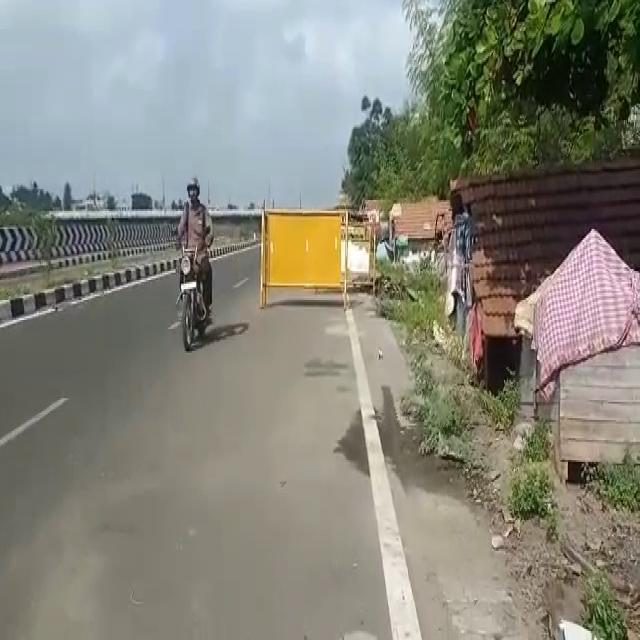fallen_object: (249, 193, 379, 336)
